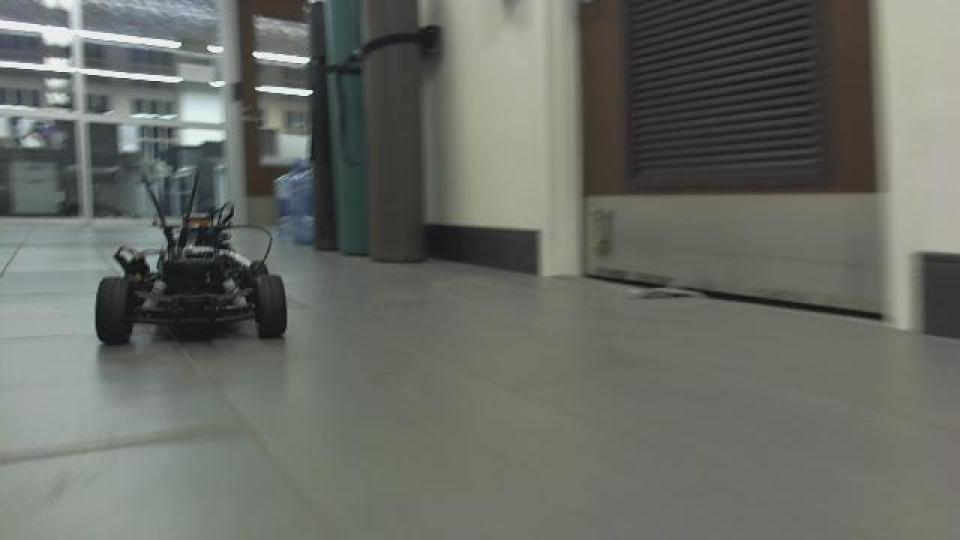car: (90, 162, 290, 348)
